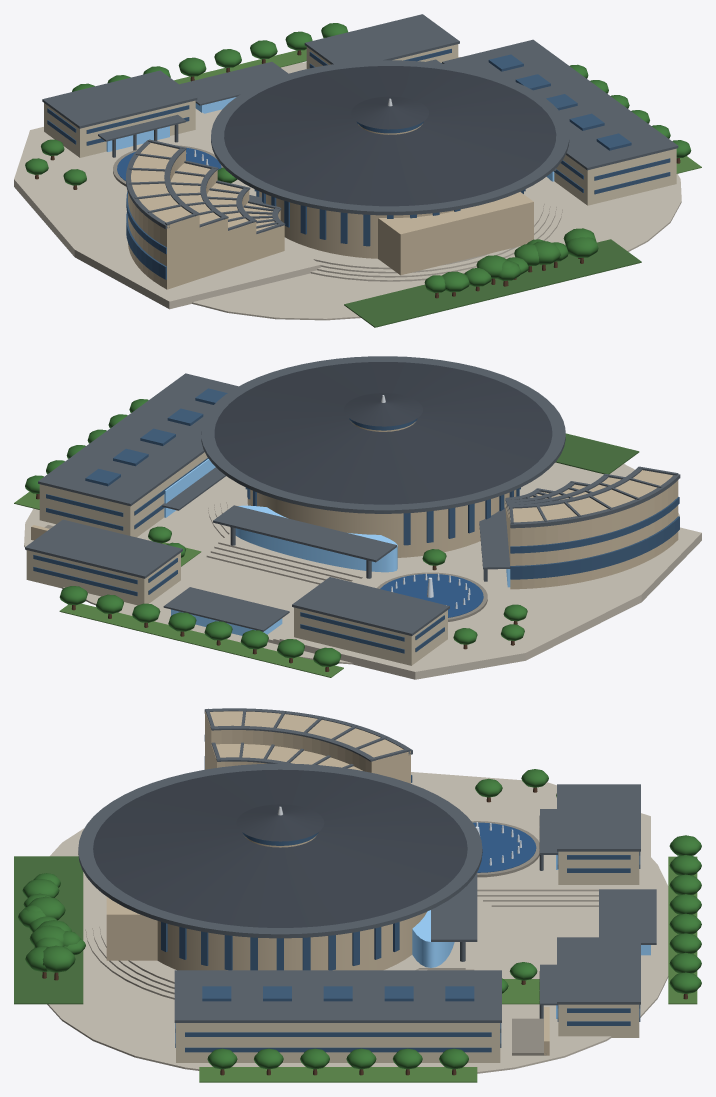
File: seoul-arts-center.glb
3 renders of one model, top to bottom at view 1: azimuth 30°, elevation 25°; view 2: azimuth 150°, elevation 25°; view 3: azimuth 270°, elevation 25°, orthographic. The views are drawn at different scales.
Size of the model in its own units: 229 by 43.5 by 216.
